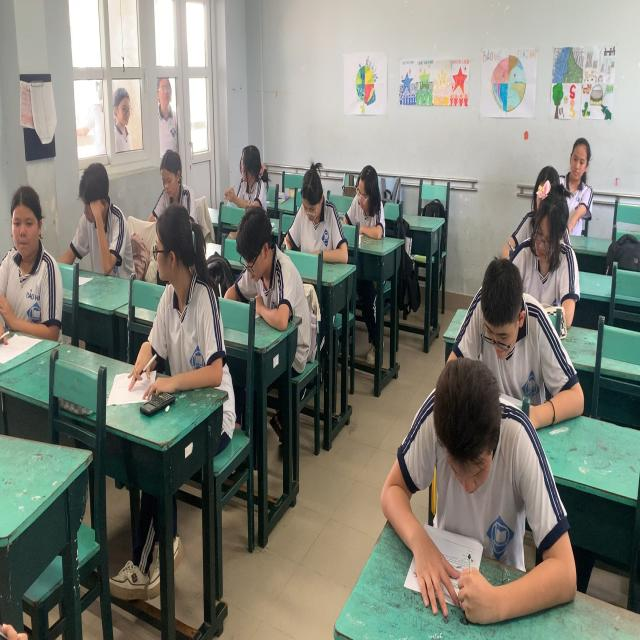cheating: (136, 202, 225, 388), (1, 188, 66, 344), (223, 136, 266, 226)
not_cheating: (383, 355, 536, 616), (450, 264, 566, 416), (222, 205, 301, 323), (274, 157, 350, 272), (519, 174, 581, 312), (68, 161, 128, 281), (560, 125, 597, 254), (340, 164, 387, 247), (146, 144, 194, 206)
